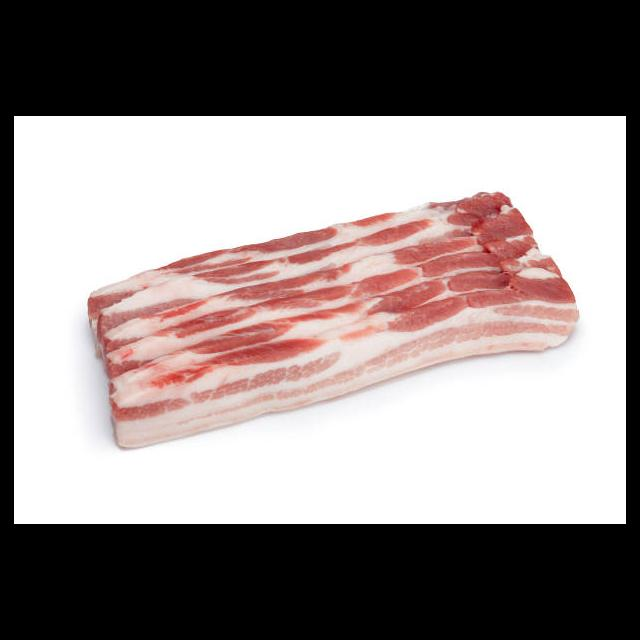pork: (80, 189, 581, 451)
